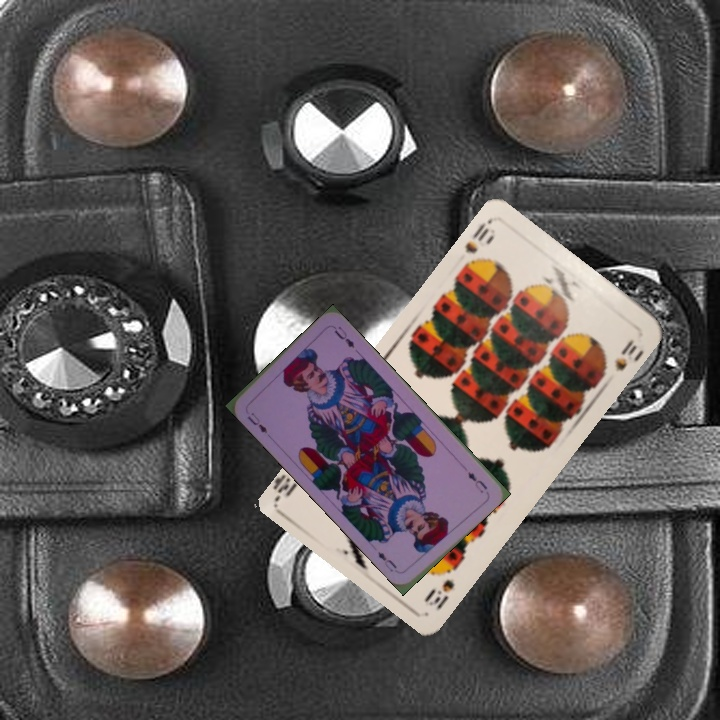EU: (463, 467, 490, 496), (243, 408, 270, 436)
S10: (458, 217, 498, 272), (420, 575, 458, 612)
